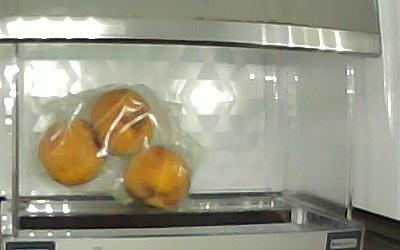peach_vinyl: (38, 119, 108, 186), (91, 88, 157, 158), (124, 146, 192, 211)
